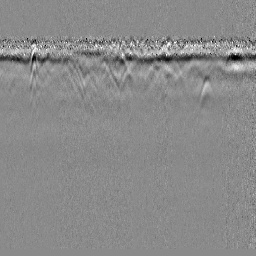cavity: (119, 67, 136, 90)
